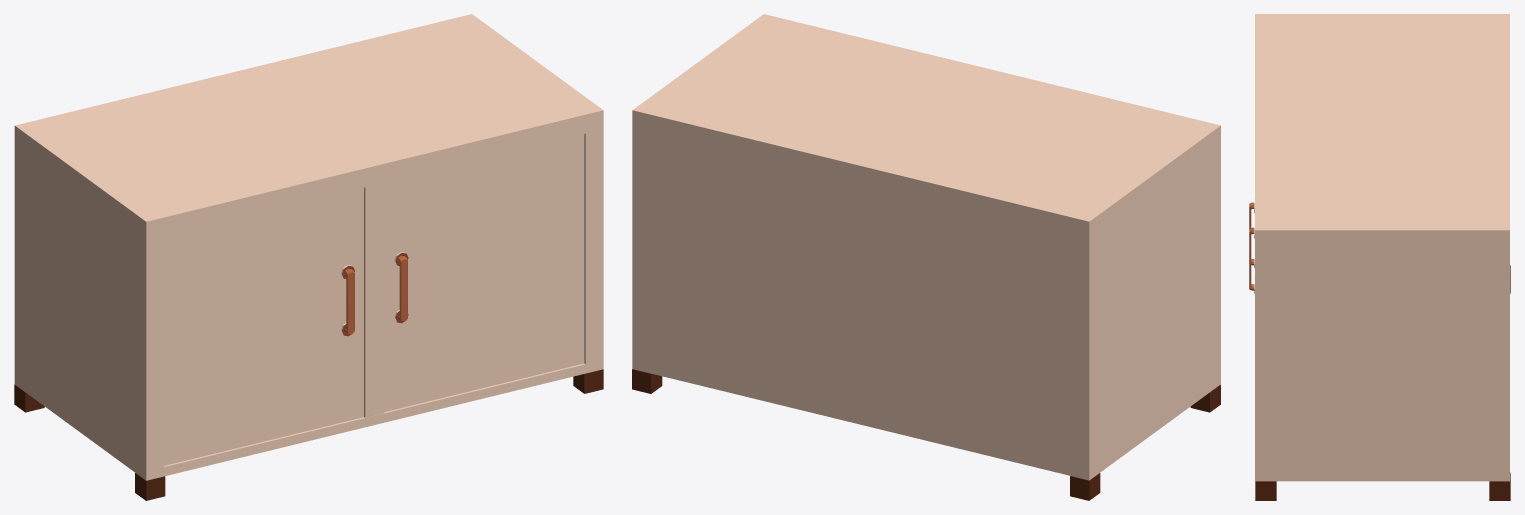
File: PW_cupboard02.fbx
3 views of the same model, side by side, from view 1: azimuth 30°, elevation 25°; view 2: azimuth 150°, elevation 25°; view 3: azimuth 270°, elevation 25° (orthographic). The views are drawn at different scales.
Parts seen in each view (by area): view 1: cupboard, door02, door01; view 2: cupboard; view 3: cupboard.
Boxes of the visible parts, bbox=[...] form: cupboard: bbox=[14, 14, 603, 500]; door02: bbox=[384, 134, 584, 411]; door01: bbox=[164, 187, 363, 465]; cupboard: bbox=[632, 14, 1220, 500]; cupboard: bbox=[1255, 14, 1510, 500].
Bounding box in the file's own units: 2.39 × 1.4 × 1.22.
